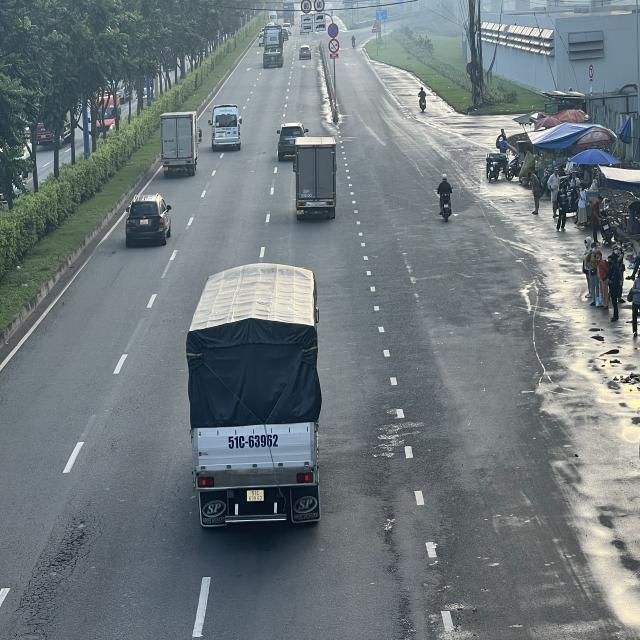car: (127, 193, 174, 244), (277, 123, 306, 161)
container: (264, 26, 285, 70)
truck: (185, 269, 321, 536), (296, 135, 340, 219), (162, 112, 205, 175)
van: (209, 105, 243, 152)
